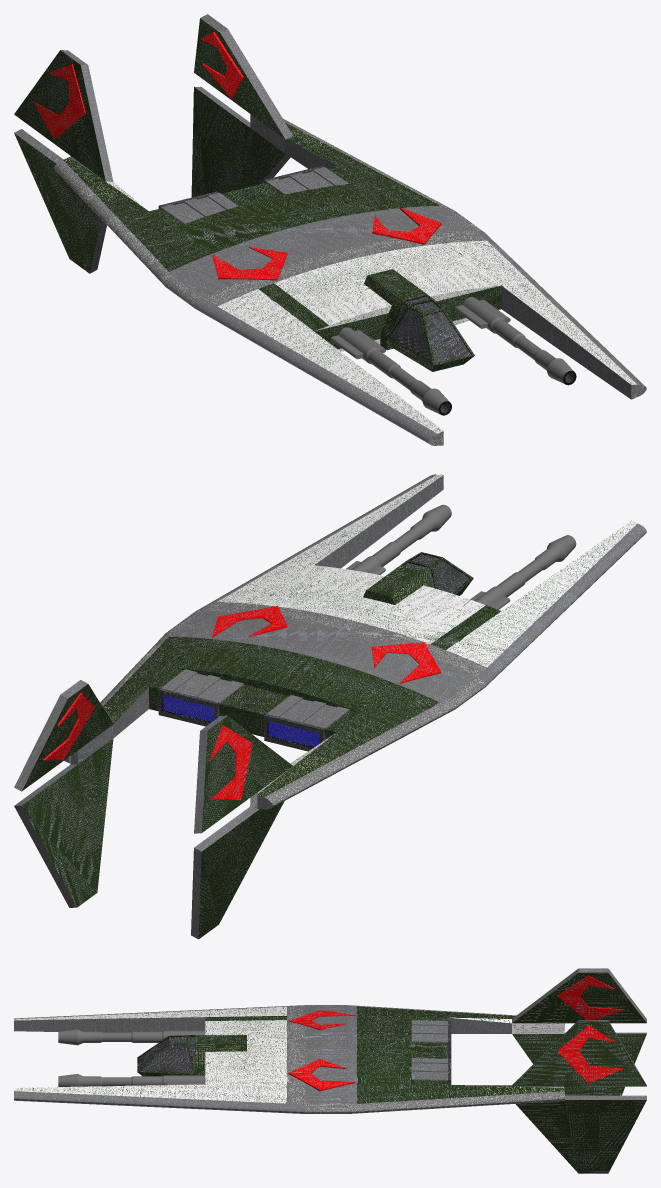
3 views of the same model, one above another, from view 1: azimuth 30°, elevation 25°; view 2: azimuth 150°, elevation 25°; view 3: azimuth 270°, elevation 25° (orthographic). The views are drawn at different scales.
Visible parts, largest first — view 1: group_23 (×3), group_6 (×3), group_18, group_17 (×3), group_7 (×3), group_13, group_12, group_2 (×3), group_5 (×4), group_4, group_3, group_1 (+3 smaller); view 2: group_23 (×3), group_6 (×3), group_7 (×3), group_18, group_17 (×3), group_13, group_5 (×7), group_12, group_2 (×2), group_4, group_3, group_1 (+3 smaller); view 3: group_17 (×3), group_6 (×3), group_7 (×3), group_23 (×3), group_18, group_13, group_12, group_2 (×2), group_5 (×3), group_3, group_4, group_10 (+3 smaller).
Part boxes in pixels (<box>): group_23 (×3): <box>54,157,443,445</box>; group_6 (×3): <box>191,14,336,197</box>; group_18: <box>169,205,486,306</box>; group_17 (×3): <box>283,118,646,399</box>; group_7 (×3): <box>14,50,113,273</box>; group_13: <box>259,243,501,331</box>; group_12: <box>174,182,397,253</box>; group_2 (×3): <box>364,269,474,371</box>; group_5 (×4): <box>160,167,501,349</box>; group_4: <box>330,327,449,414</box>; group_3: <box>455,297,573,383</box>; group_1: <box>34,64,85,139</box>; group_23 (×3): <box>257,520,646,809</box>; group_6 (×3): <box>14,680,148,907</box>; group_7 (×3): <box>191,715,292,939</box>; group_18: <box>169,602,486,702</box>; group_17 (×3): <box>64,474,443,763</box>; group_13: <box>259,565,501,649</box>; group_5 (×7): <box>158,669,349,751</box>; group_12: <box>174,639,397,713</box>; group_2 (×2): <box>363,552,473,604</box>; group_4: <box>470,535,576,609</box>; group_3: <box>346,504,451,574</box>; group_1: <box>209,725,252,799</box>; group_17 (×3): <box>14,1083,564,1113</box>; group_6 (×3): <box>512,1020,646,1173</box>; group_7 (×3): <box>448,968,646,1095</box>; group_23 (×3): <box>14,1005,516,1032</box>; group_18: <box>287,1006,356,1104</box>; group_13: <box>205,1016,286,1084</box>; group_12: <box>357,1016,411,1084</box>; group_2 (×2): <box>137,1035,246,1076</box>; group_5 (×3): <box>411,1020,447,1080</box>; group_3: <box>58,1074,205,1086</box>; group_4: <box>58,1029,205,1045</box>; group_10: <box>557,1025,623,1083</box>.
Size of the model in its own units: 284 by 722 by 196.
